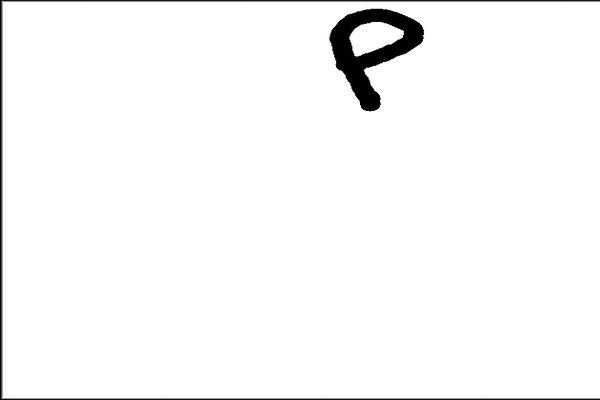P: (319, 3, 430, 131)
